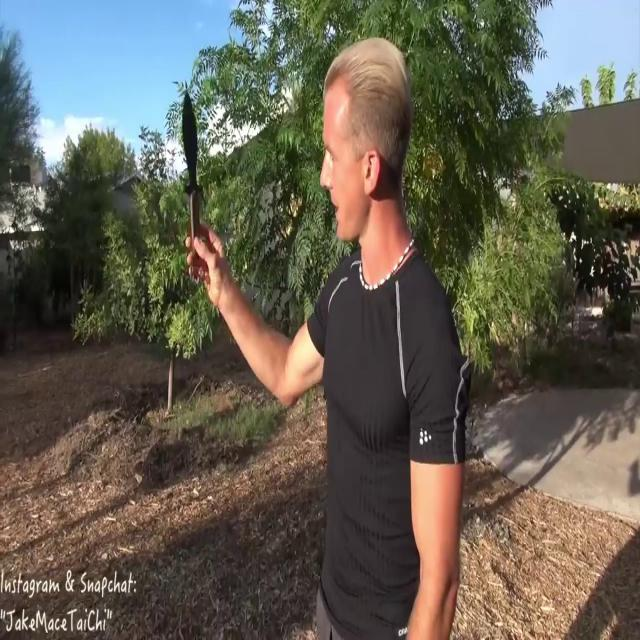knife: (168, 79, 214, 287)
